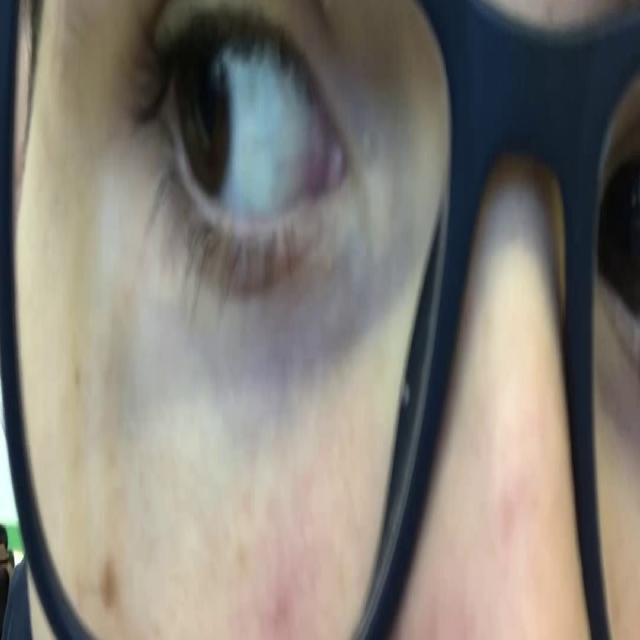eye: (126, 0, 360, 340)
gaze: (167, 34, 236, 202)
